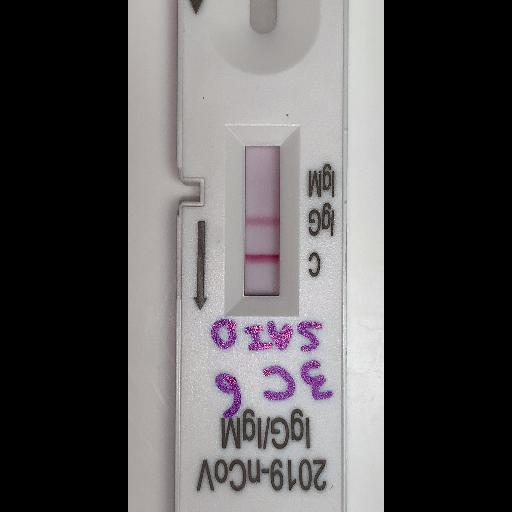Pos: (174, 0, 343, 511)
